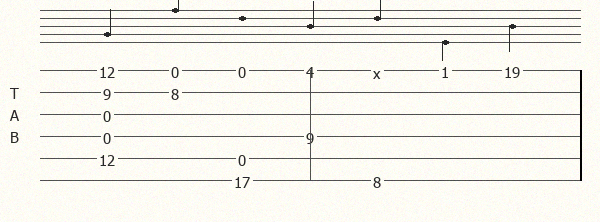0: (103, 107, 115, 122), (103, 129, 115, 144), (171, 63, 183, 78), (238, 63, 250, 78), (238, 151, 250, 166)
1: (441, 63, 453, 78)
12: (99, 63, 119, 78), (99, 151, 119, 166)
17: (234, 173, 254, 188)
19: (504, 63, 524, 78)
4: (306, 63, 318, 78)
8: (171, 85, 183, 100), (373, 173, 385, 188)
9: (103, 85, 115, 100), (306, 129, 318, 144)
x: (373, 64, 385, 76)
